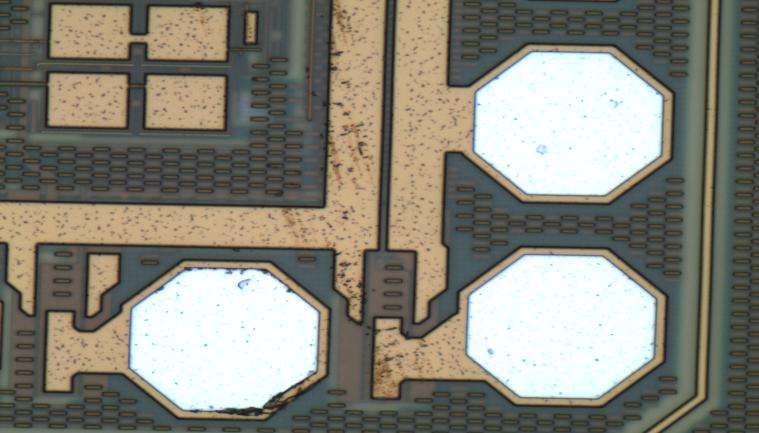PO CONTAMINATION: (1, 1, 676, 422)
